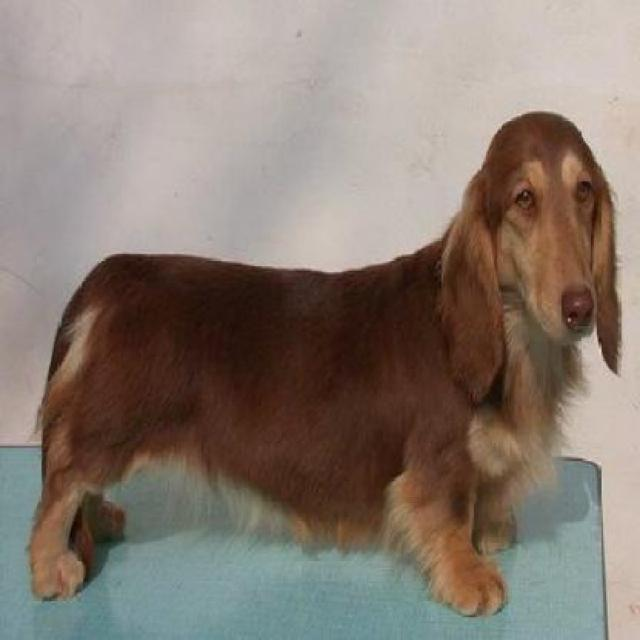Dog: (29, 60, 622, 622)
